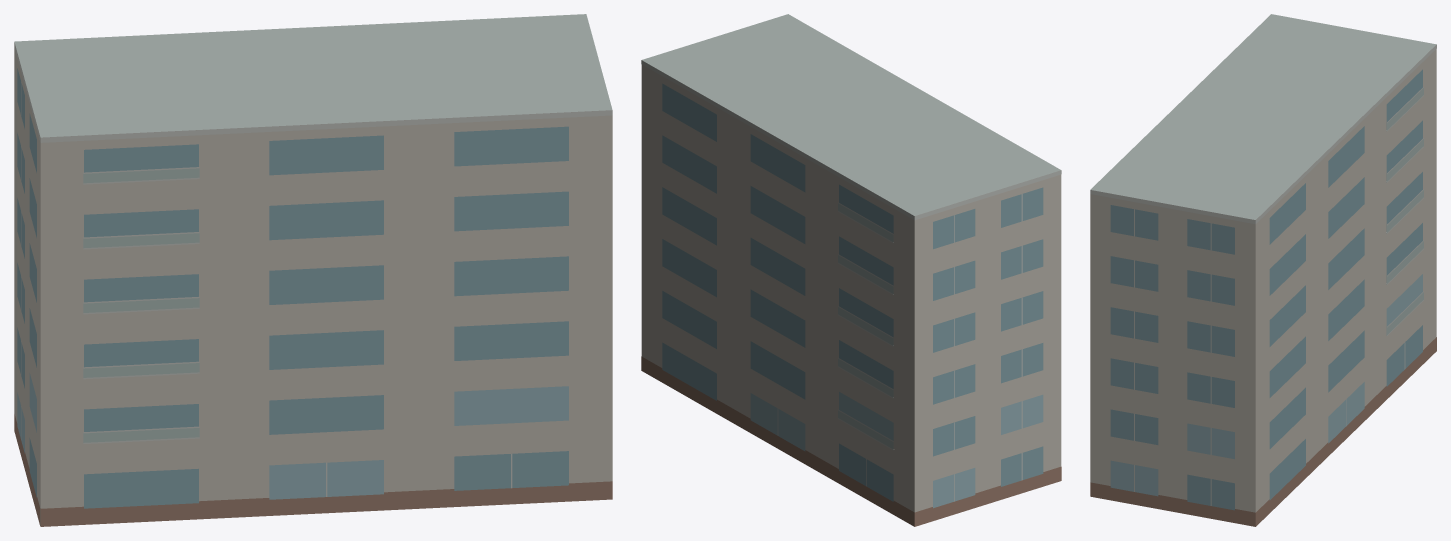
Rendered from survey-upis-32956016.glb.
3 views of the same model, side by side, from view 1: azimuth 30°, elevation 25°; view 2: azimuth 150°, elevation 25°; view 3: azimuth 270°, elevation 25° (orthographic). The views are drawn at different scales.
Visible parts, largest first — view 1: survey-upis-32956016.tmp; view 2: survey-upis-32956016.tmp; view 3: survey-upis-32956016.tmp.
Boxes of the visible parts, x1,y1,x2,y2 form: survey-upis-32956016.tmp: [14, 14, 612, 526]; survey-upis-32956016.tmp: [641, 14, 1061, 526]; survey-upis-32956016.tmp: [1090, 14, 1436, 526].
Bounding box in the file's own units: 25.66 × 17.8 × 18.23.
